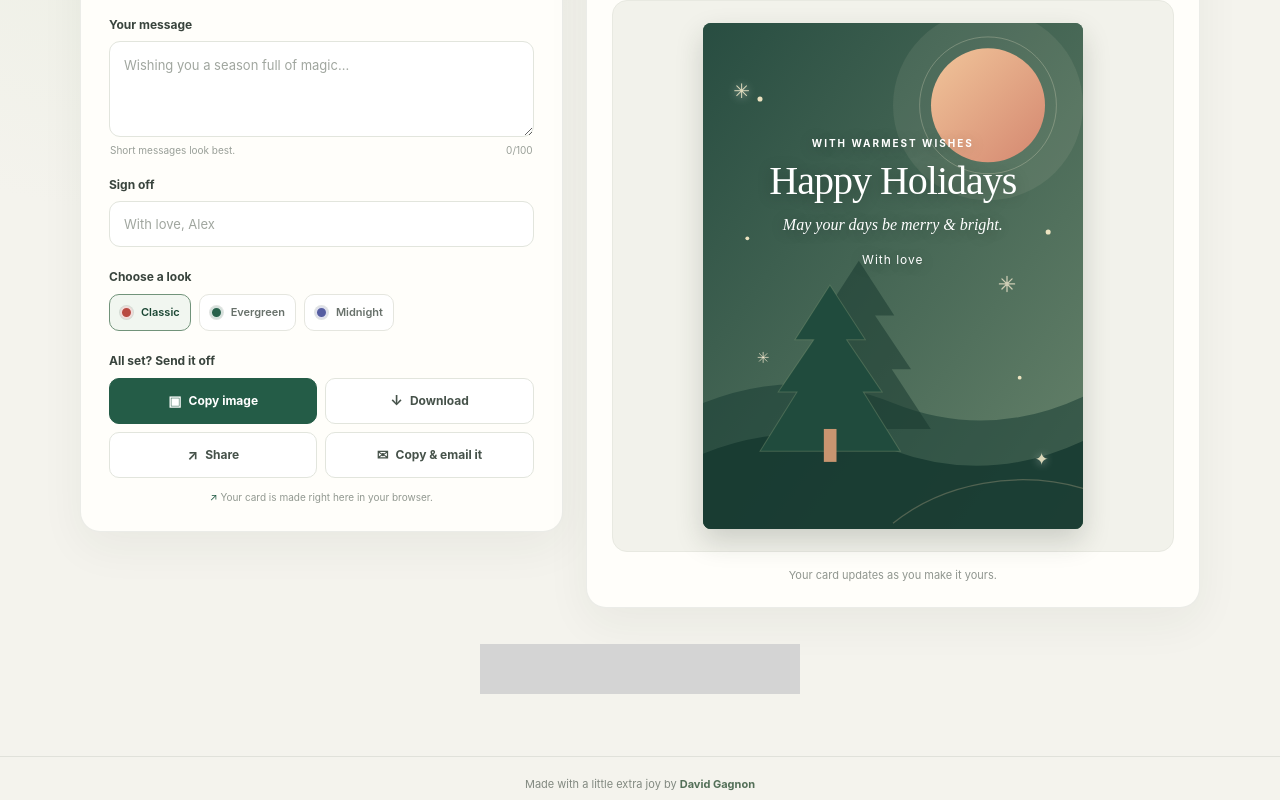
Test: copy image generates the card and writes it to the clipboard
(page scrolled)
Click the button "▣ Copy image": click(213, 401) [109,378,317,424]
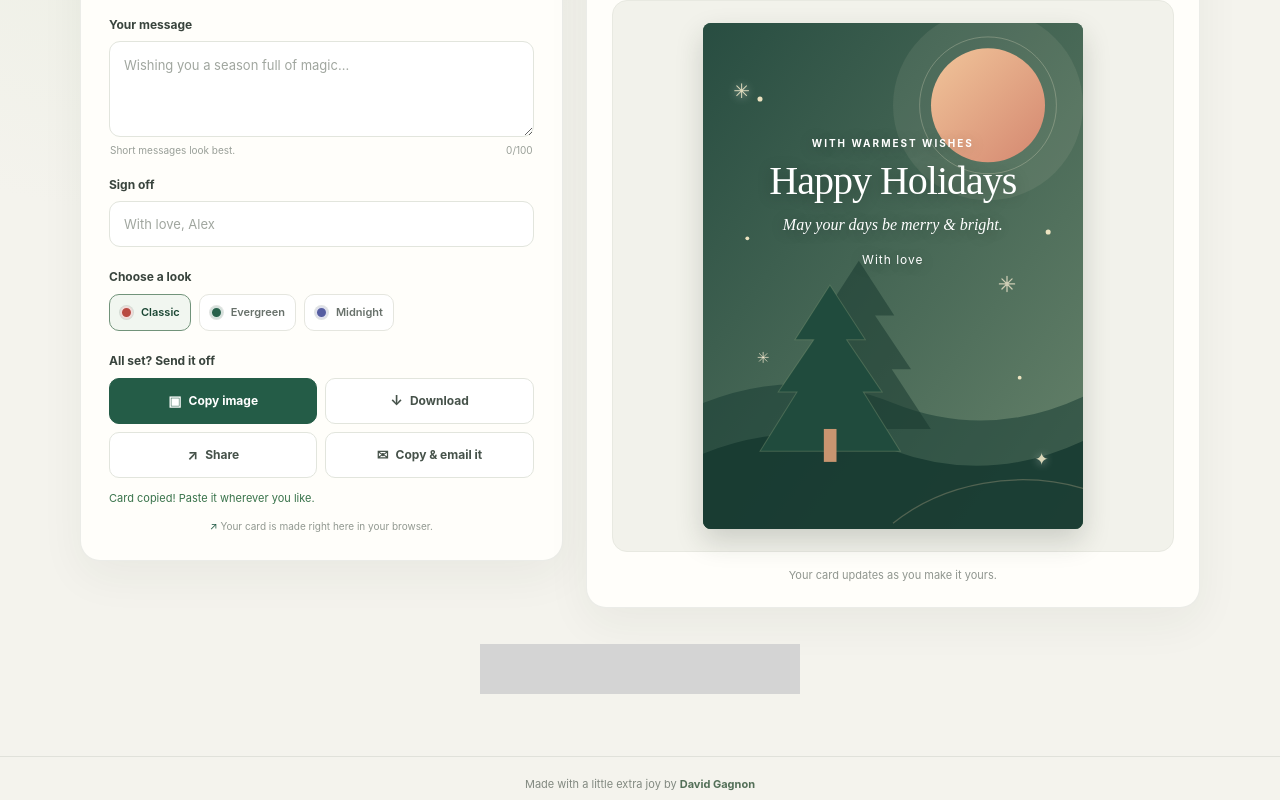
Result: the message "Card copied! Paste it wherever you like." is shown at [109,491,315,505]
